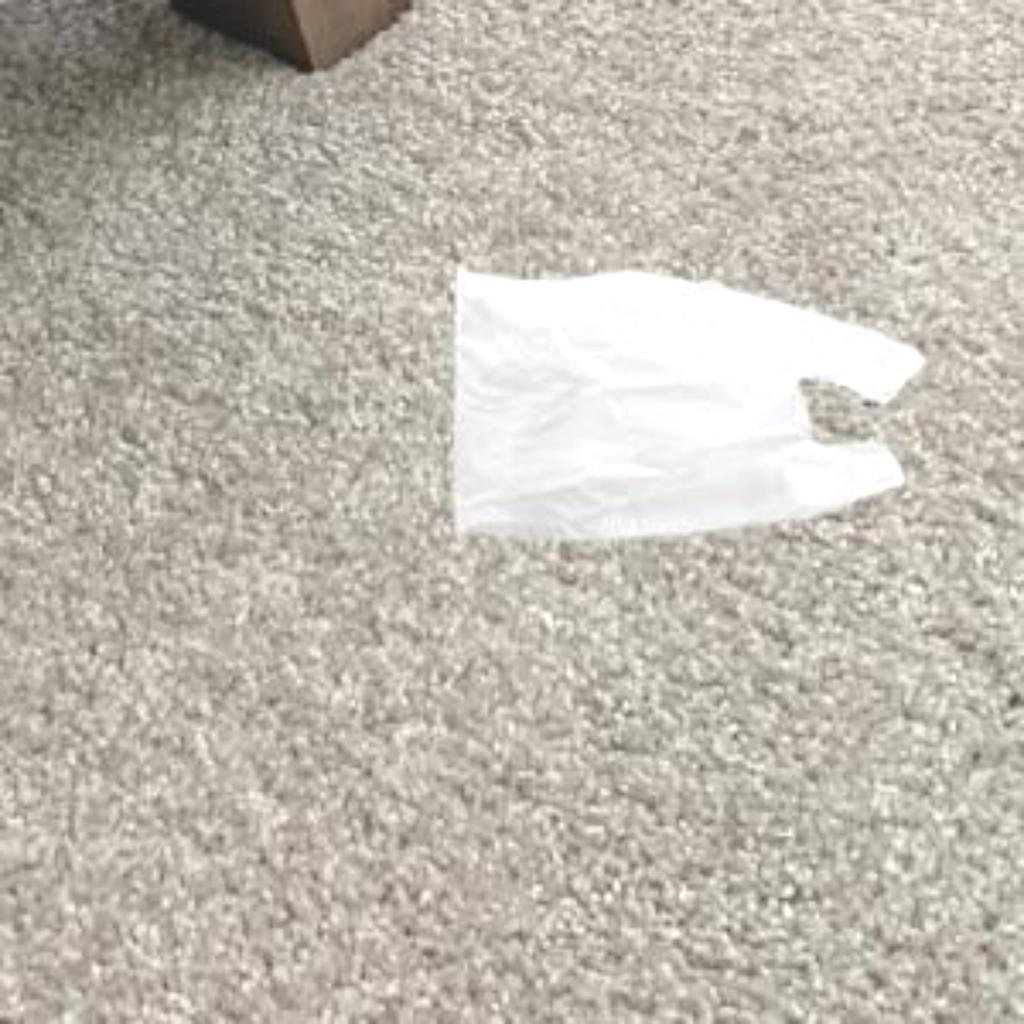garbage: (420, 230, 949, 579)
